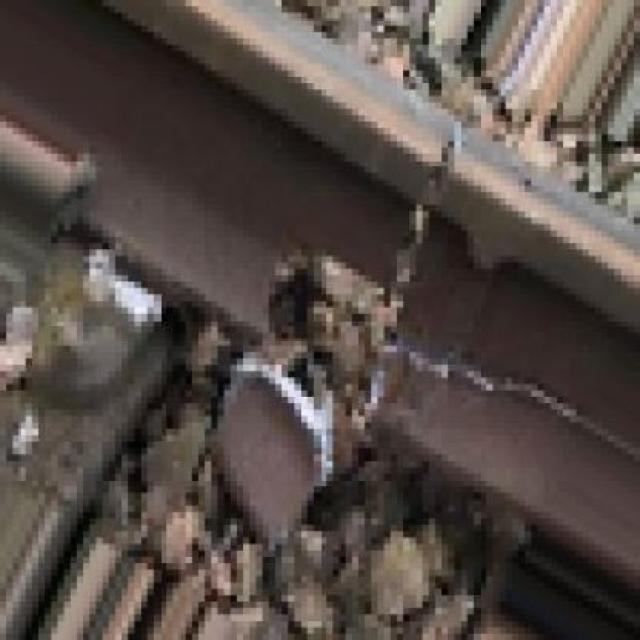defective: (50, 20, 640, 640)
